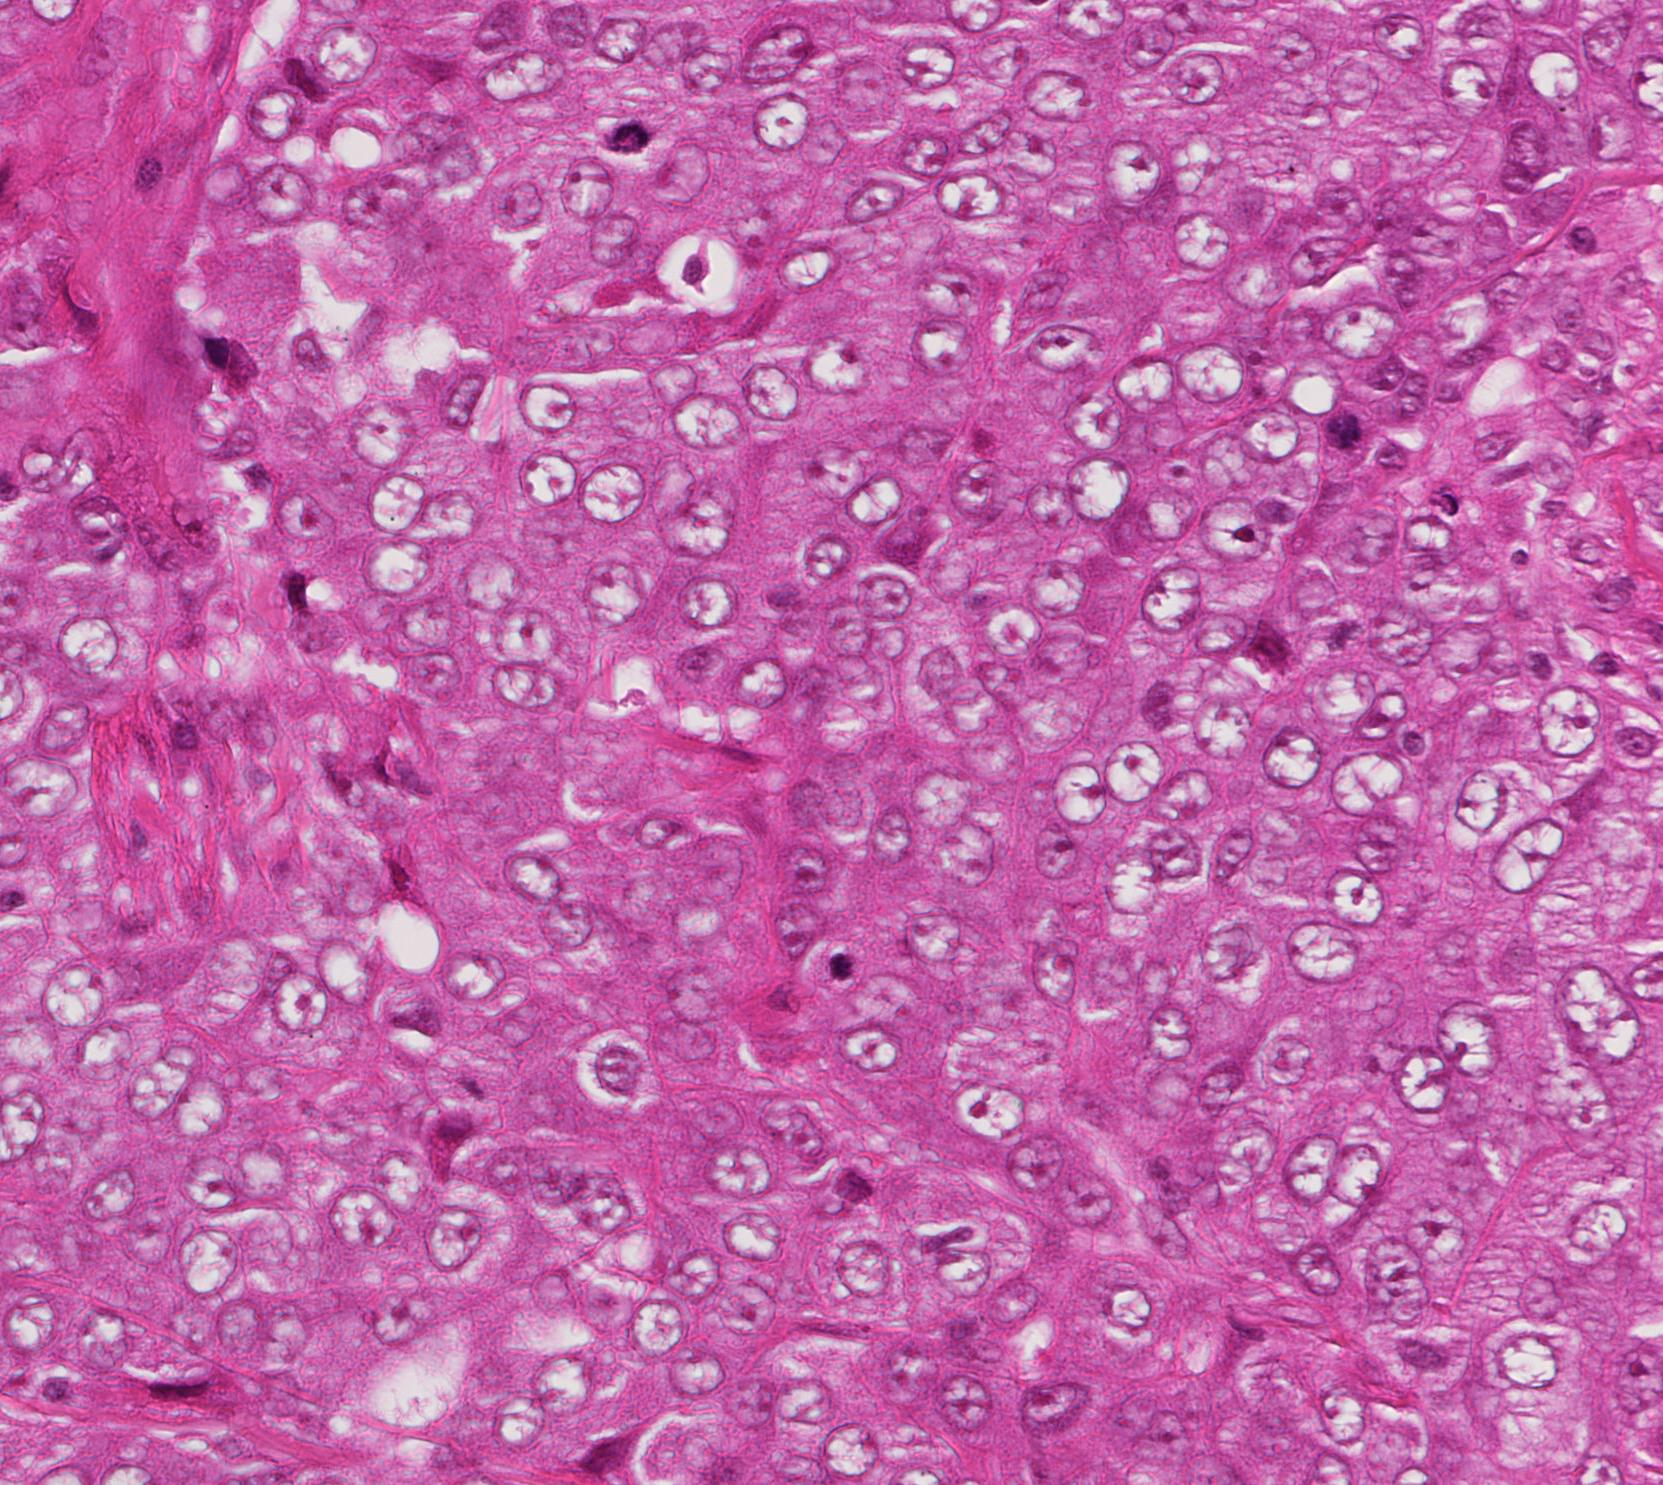mitosis: (596, 99, 657, 159), (814, 935, 875, 993)
